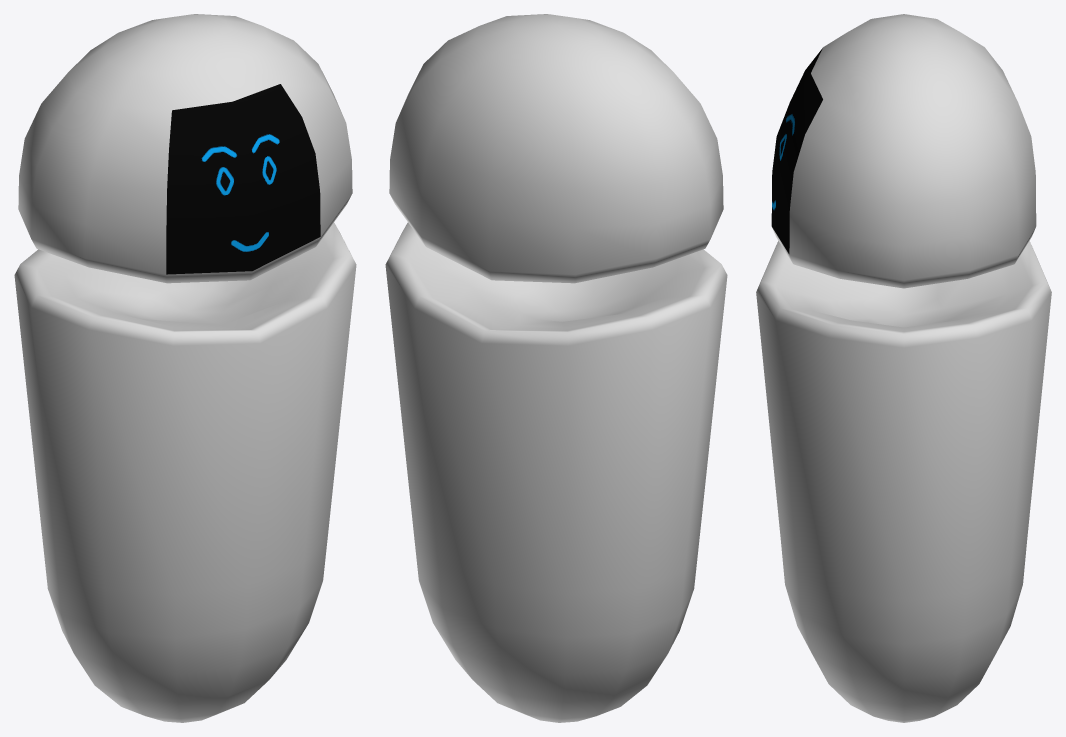
Rendered from Robot02.FBX.
3 views of the same model, side by side, from view 1: azimuth 30°, elevation 25°; view 2: azimuth 150°, elevation 25°; view 3: azimuth 270°, elevation 25° (orthographic).
Parts seen in each view (by area): view 1: Capsule004, Capsule003, Robot02; view 2: Capsule004, Capsule003; view 3: Capsule004, Capsule003, Robot02.
Part boxes in pixels (x1,y1,x2,y2): Capsule004: (14, 222, 356, 722); Capsule003: (18, 14, 352, 283); Robot02: (166, 84, 320, 274); Capsule004: (385, 222, 727, 722); Capsule003: (389, 14, 723, 283); Capsule004: (756, 241, 1051, 722); Capsule003: (772, 14, 1036, 288); Robot02: (771, 48, 822, 253).
Bounding box in the file's own units: 0.9206 × 1.97 × 0.7739.
Materials: 2 (1 with a texture image).
